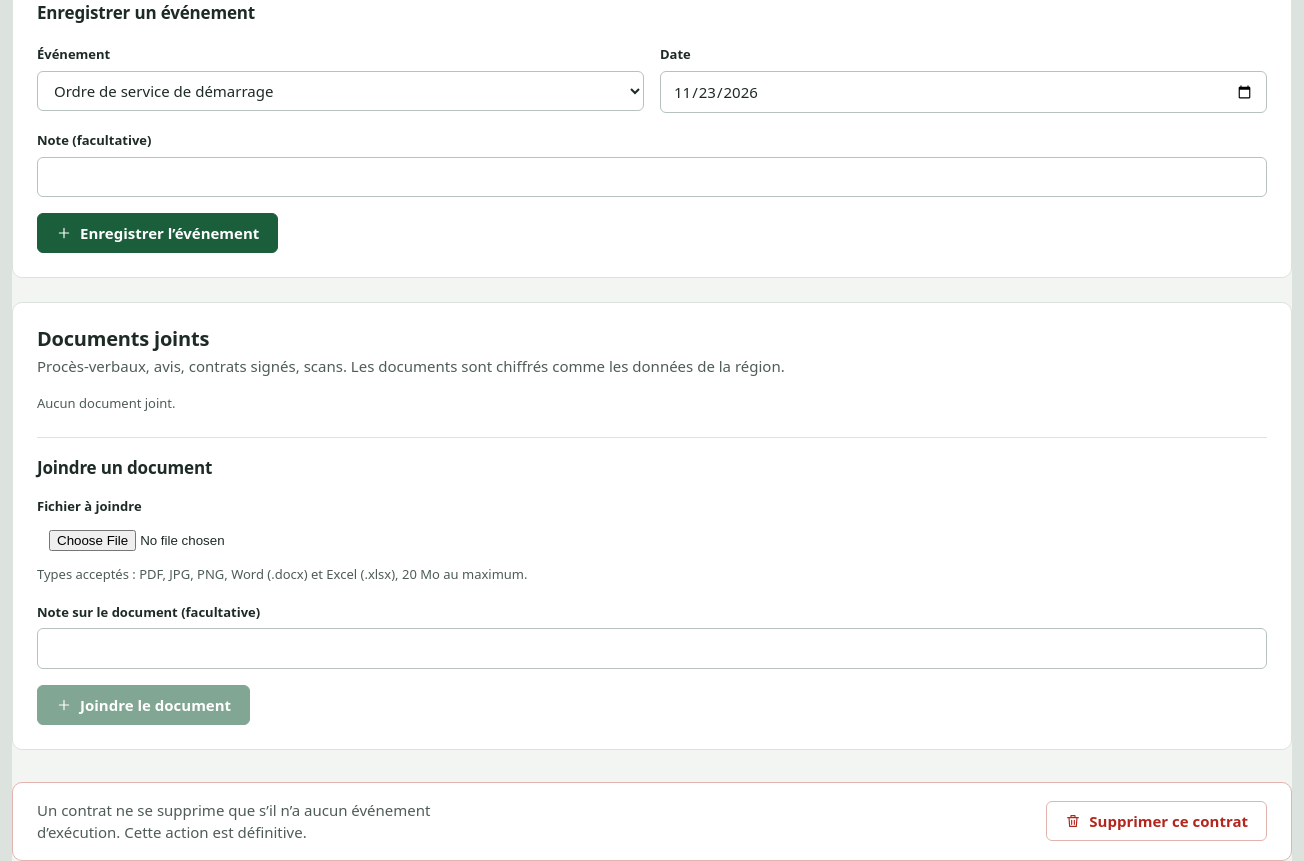
ContractDetailScreen › affiche le motif quand la suppression est refusée (événements enregistrés)
(page scrolled)
Click the button "Supprimer ce contrat". click: x=1157, y=821
box: [1046,801,1267,841]
(page scrolled)
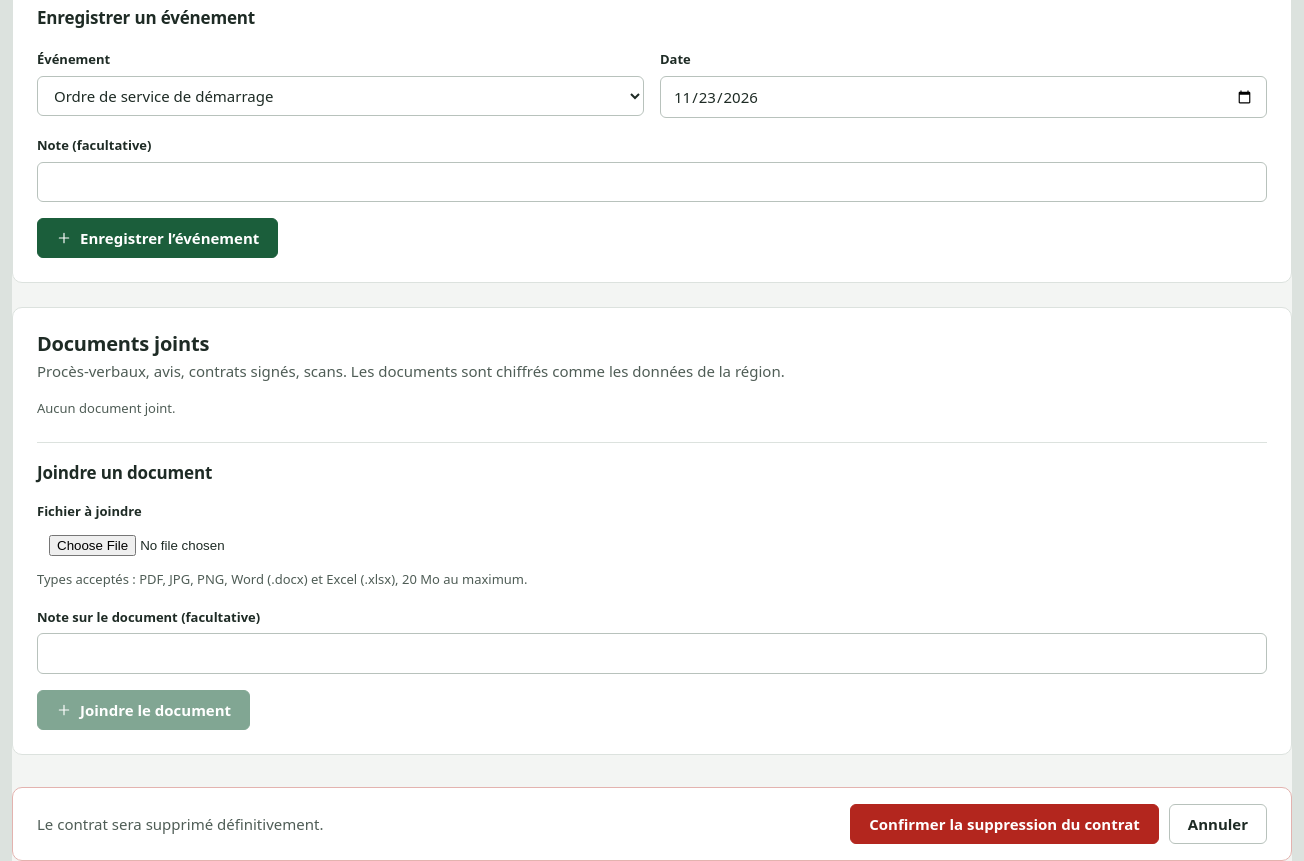
Click the button "Confirmer la suppression du contrat". click: x=1004, y=824
box: [850,804,1159,844]
(page scrolled)
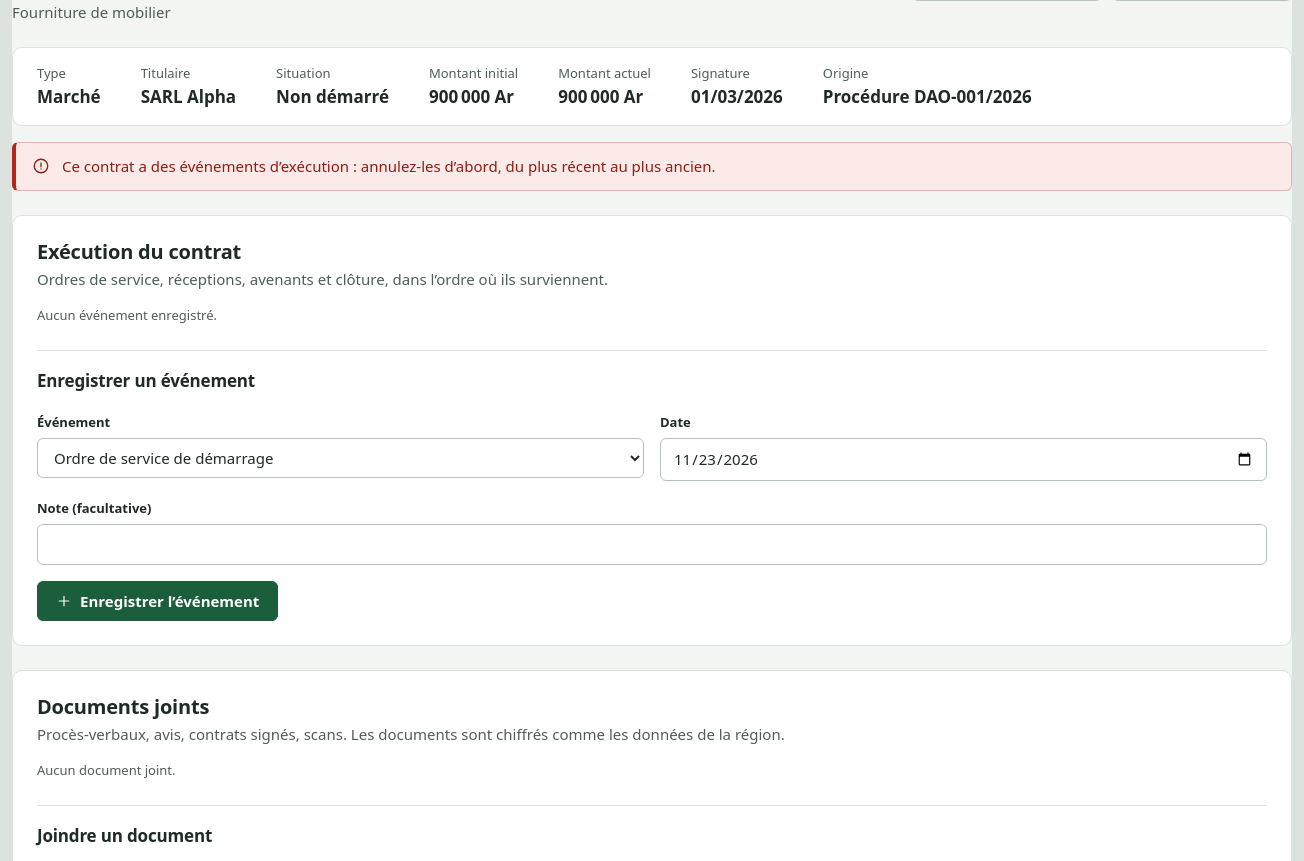
Check: the message shows "annulez-les d’abord", box [62,156,716,176]
